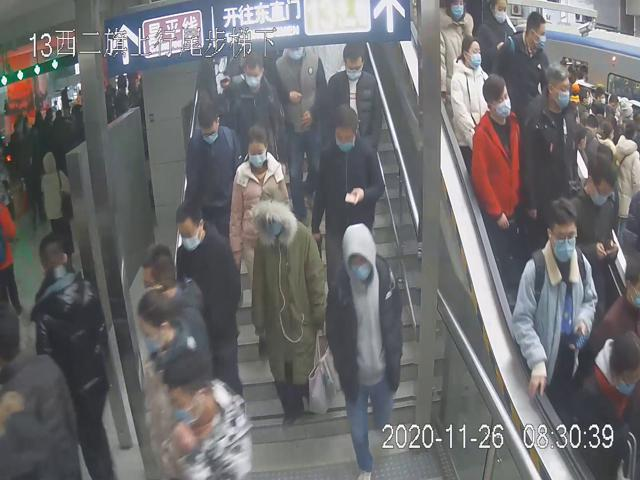person: (326, 221, 406, 480), (251, 185, 327, 432), (509, 194, 599, 400), (174, 200, 243, 402), (310, 104, 387, 255), (470, 70, 527, 265), (228, 122, 288, 279), (524, 59, 580, 204), (183, 99, 240, 233), (219, 49, 285, 160), (321, 37, 384, 152), (450, 33, 501, 164)
